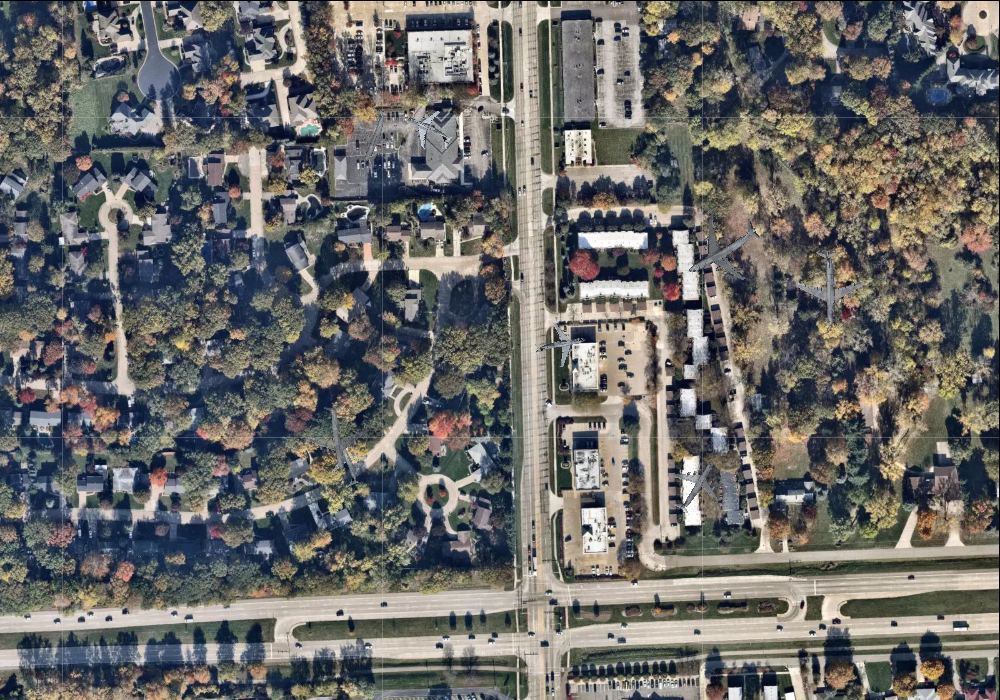plane: (669, 196, 776, 302), (657, 445, 736, 526), (793, 248, 866, 325), (301, 399, 373, 475), (340, 99, 406, 169), (394, 97, 461, 162), (530, 316, 590, 374), (318, 434, 376, 493)
